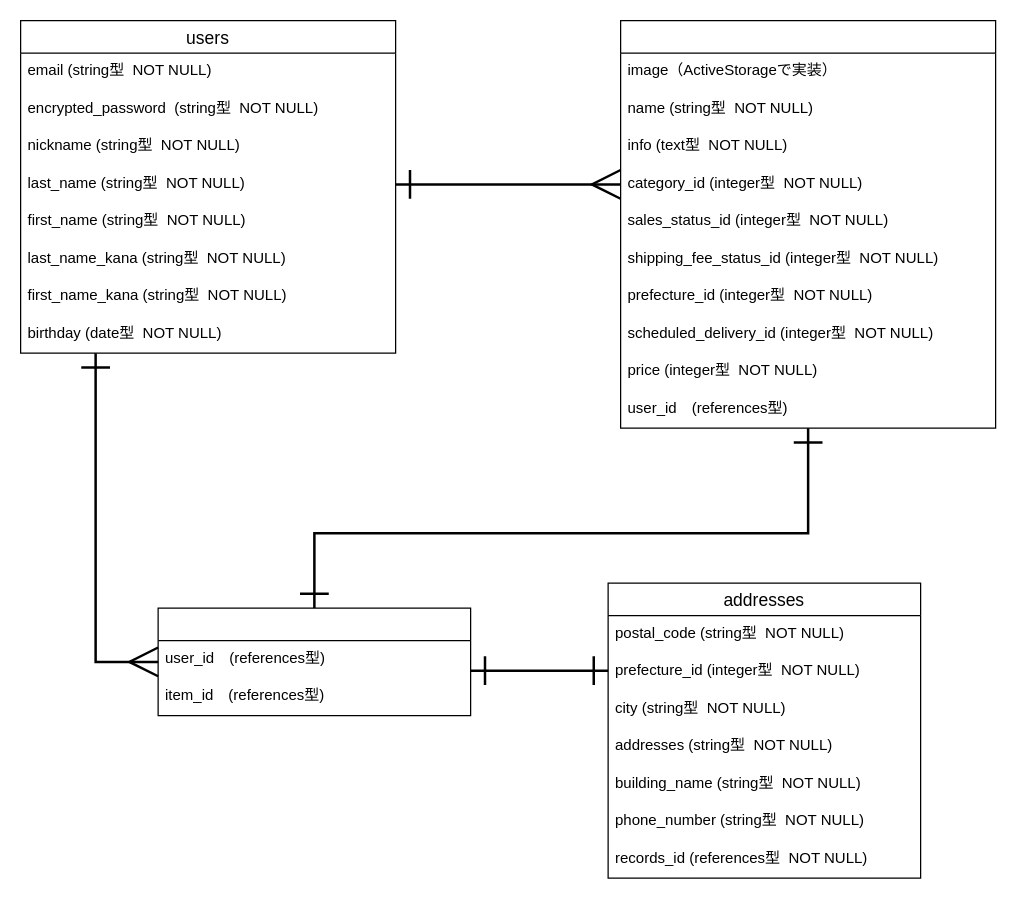
Some shapes in this 1016 by 899 pixel diagram are drawn without their labels. The shapes that lost their labels are listed below. From the top down, each one's box as (x1, y1, x2, y2) in pixels, then its label:
(619, 19, 996, 428): items
(157, 607, 471, 716): records
